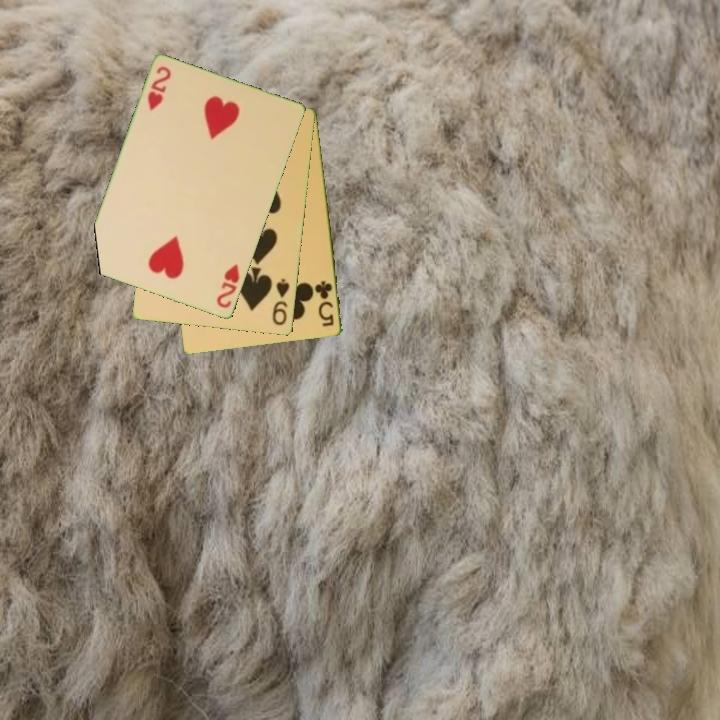2h: (144, 63, 174, 114), (213, 261, 243, 311)
5c: (312, 277, 337, 330)
9s: (269, 275, 293, 328)
